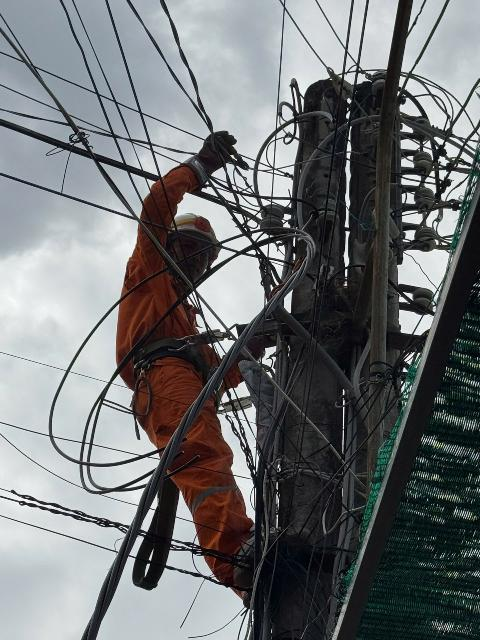gloves: (182, 100, 253, 188)
harness: (118, 327, 238, 376)
helmet: (160, 198, 233, 260)
